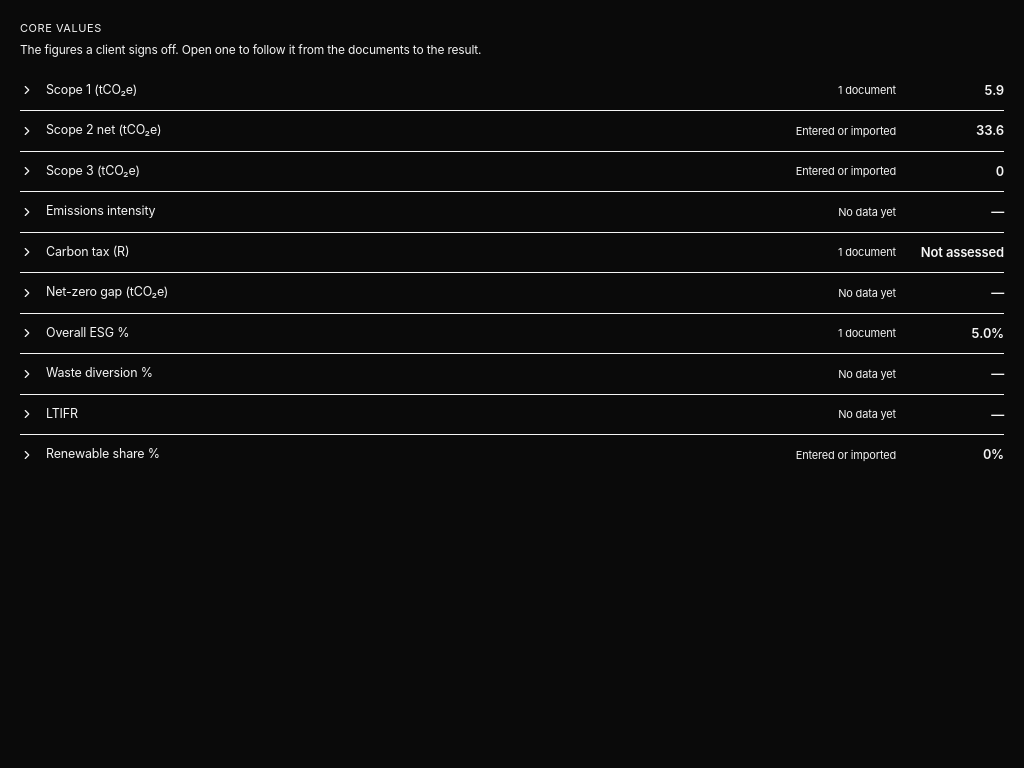
EsgCoreValuesPanel › says a hand edit happened instead of pretending the document still stands behind it
Click the button with test id "esg-core-scope1" at (92, 89), box [20,70,1004,110]
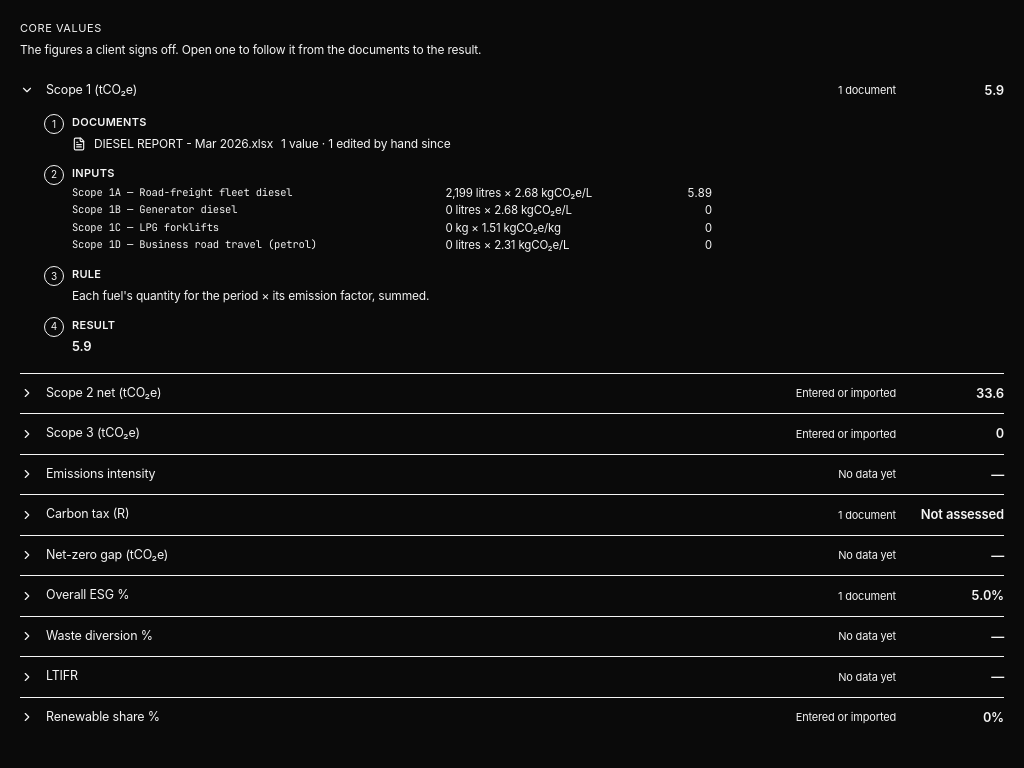
Expected: the list with test id "esg-core-chain-scope1" shows "1 value · 1 edited by hand since", [44,114,712,354]
